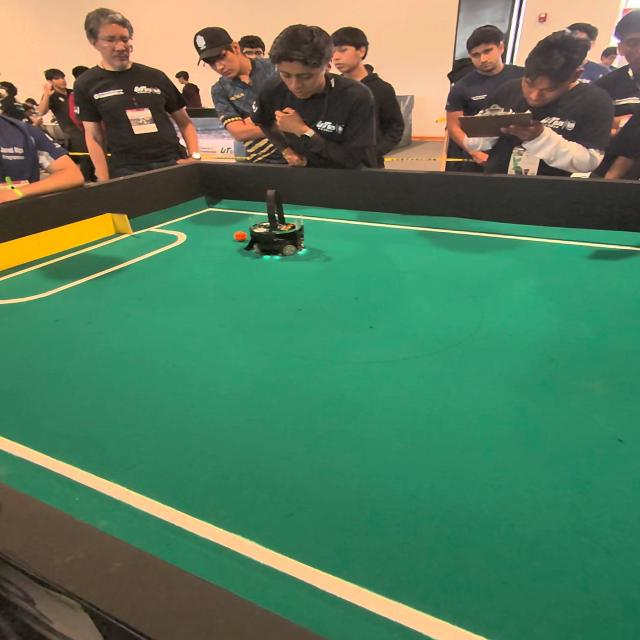Robot: (234, 182, 310, 265)
pelota: (222, 230, 254, 242)
